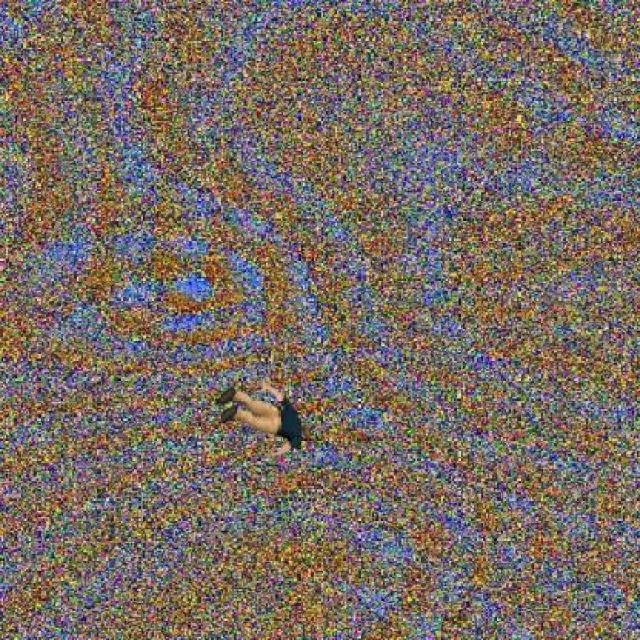Person: (215, 375, 310, 459)
